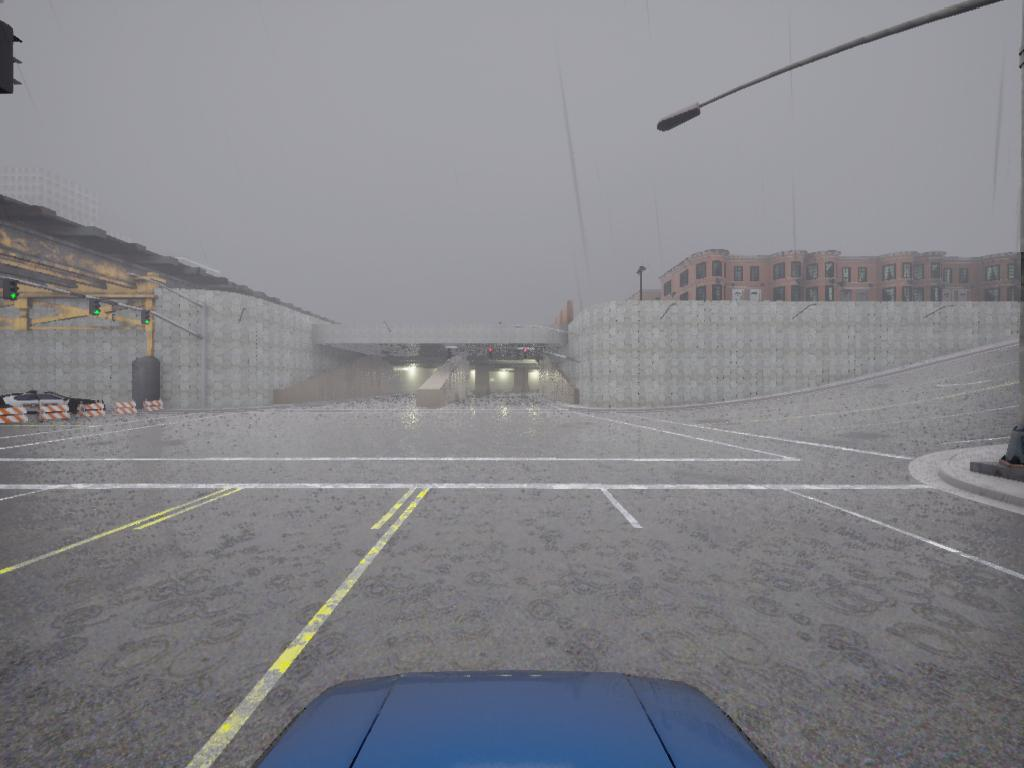traffic_light: (2, 19, 23, 95), (2, 283, 19, 301), (88, 296, 102, 317), (142, 309, 152, 330), (487, 347, 494, 361), (523, 349, 528, 362), (449, 349, 453, 361)
